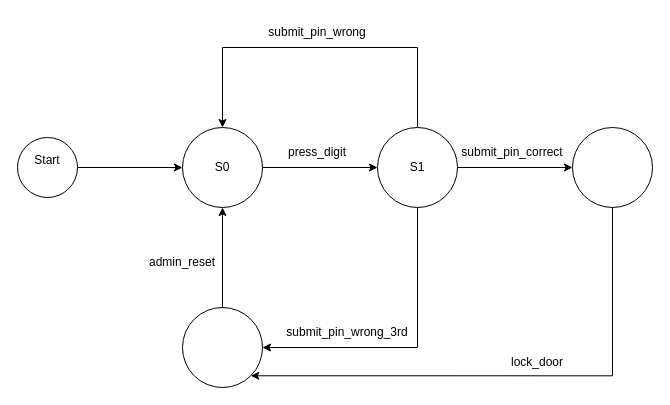
The diagram is 670 pixels wide and 405 high, and some of its shapes have lost their labels. The shapes that lost their labels are listed below. From the top down, each one's centre as x and y in pixels, then its label:
[612,167]: S2
[222,347]: S3
